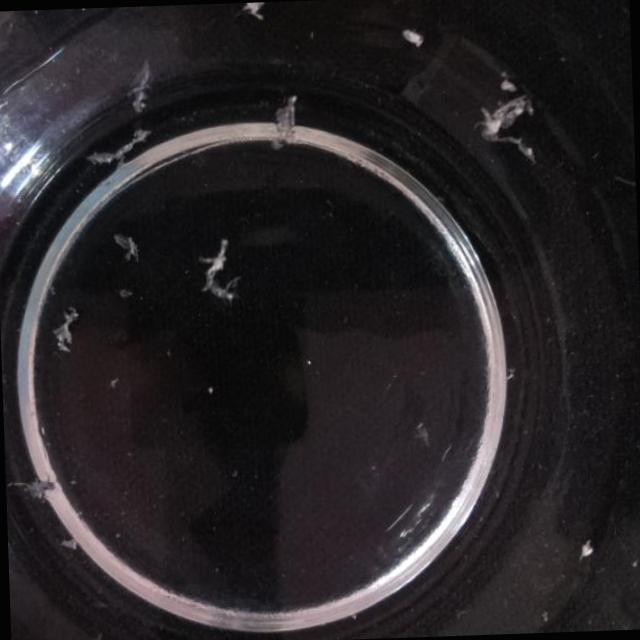fiber: (475, 80, 542, 150), (79, 130, 156, 172), (204, 238, 237, 310), (9, 463, 62, 503), (268, 92, 304, 146), (54, 300, 85, 358), (128, 57, 150, 114), (118, 222, 148, 263), (398, 20, 424, 61), (54, 524, 86, 556), (577, 527, 595, 569), (236, 1, 268, 22), (105, 370, 122, 396)
